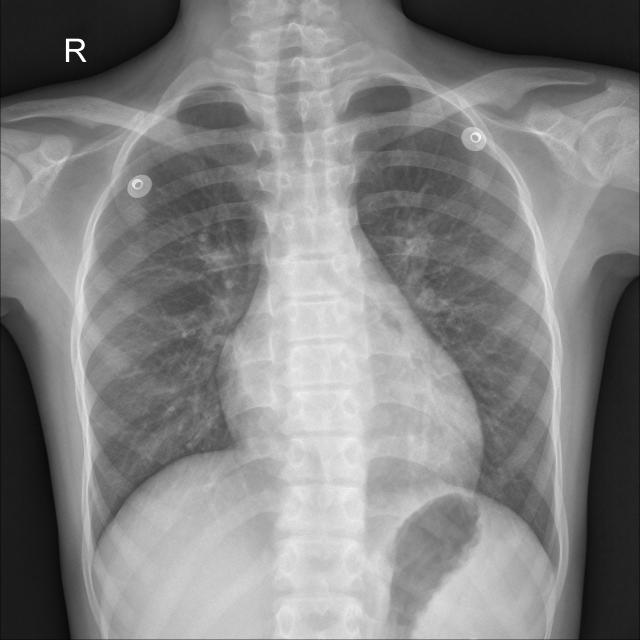no-pneumonia: (337, 85, 559, 549), (77, 86, 274, 548)
